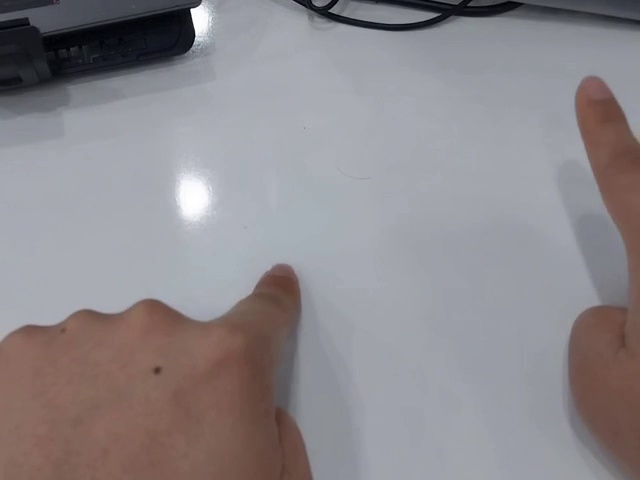fingers: (574, 75, 627, 126), (253, 262, 299, 310)
